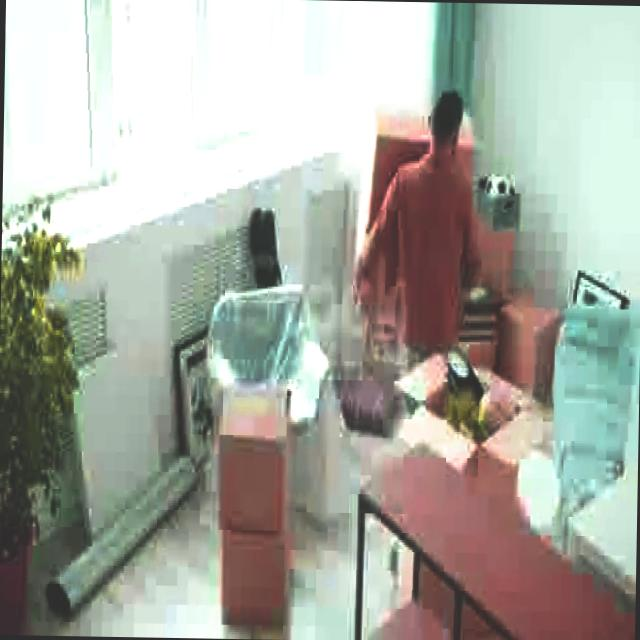Box: (216, 387, 292, 526), (226, 532, 290, 616)
